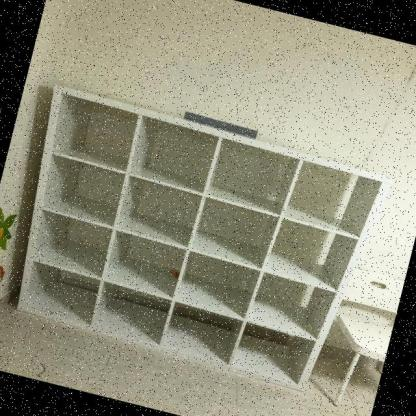Shelf: (0, 81, 399, 400)
